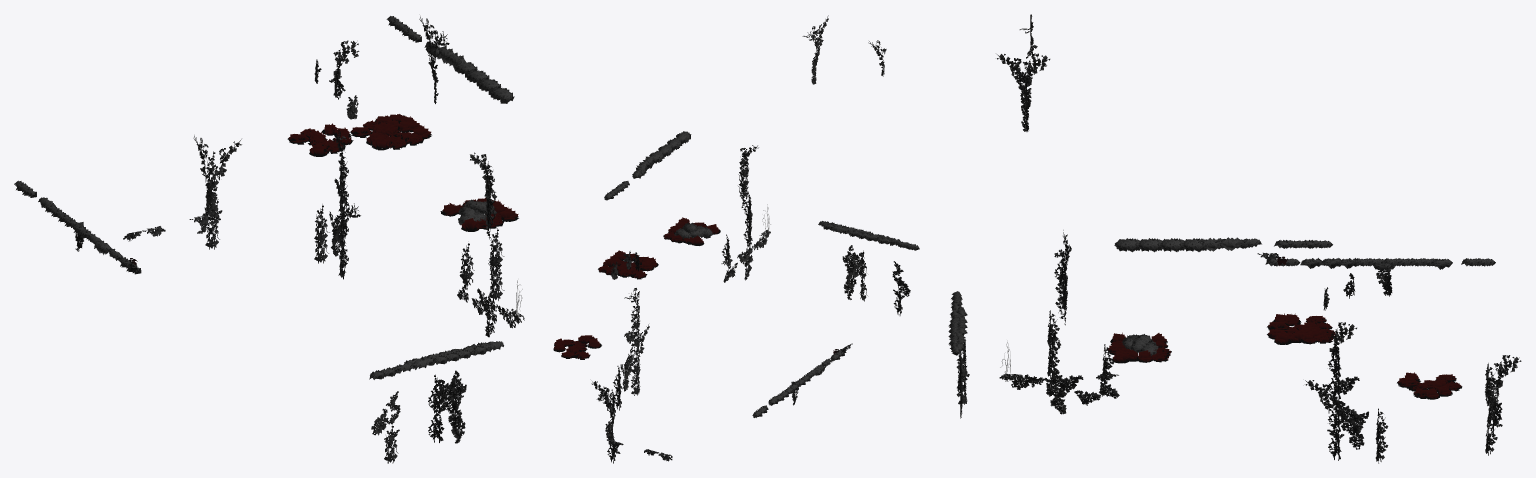
Rendered from SM_L4_zhi_ wu_1 1.fbx.
The picture shows the model from 3 angles, left to right: view 1: azimuth 30°, elevation 25°; view 2: azimuth 150°, elevation 25°; view 3: azimuth 270°, elevation 25°; orthographic projection. The views are drawn at different scales.
Size of the model in its own units: 4906 by 6298 by 8383.
